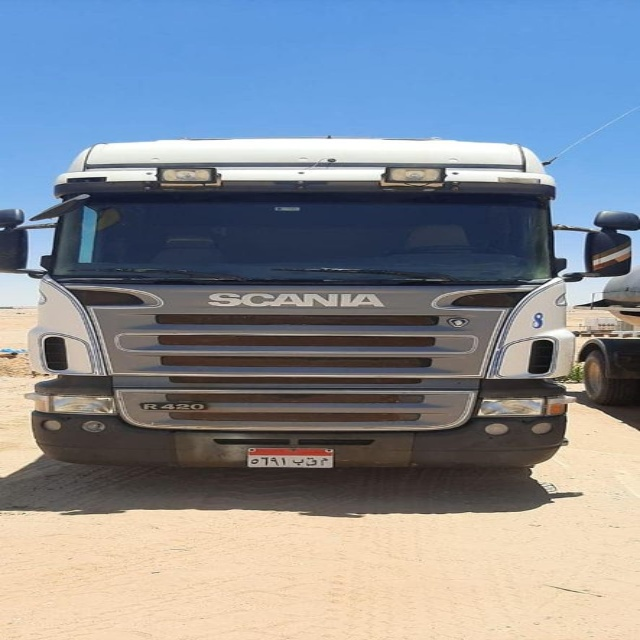License Plate: (246, 447, 337, 469)
